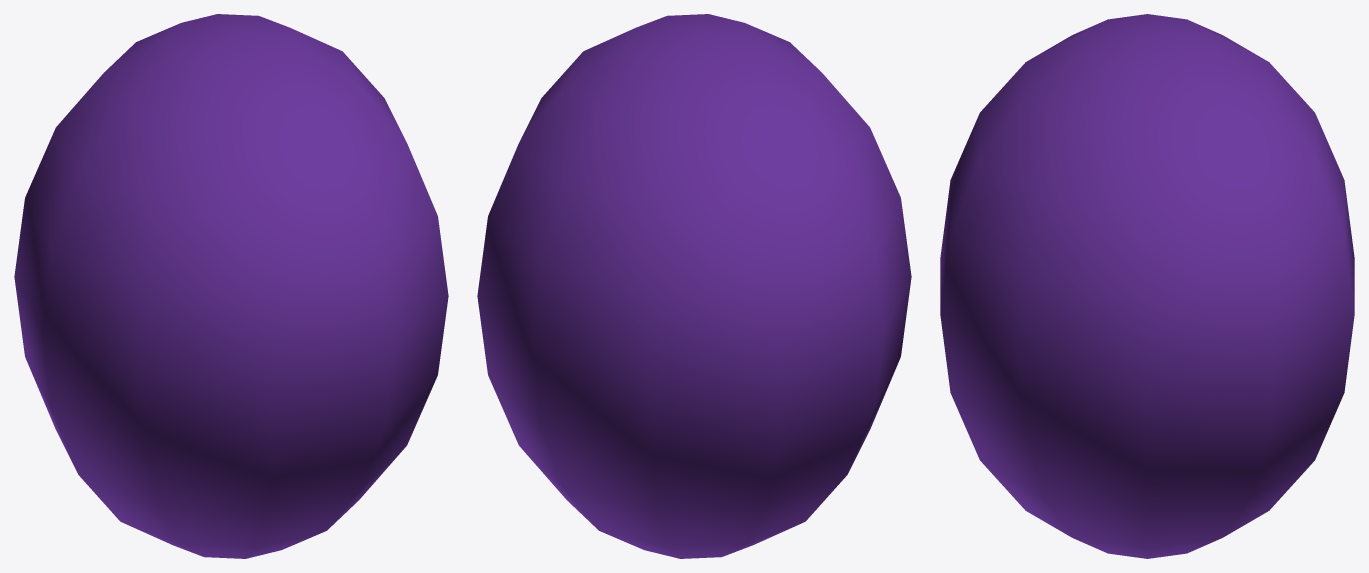
The model's file is arcankit_stage2.obj.
3 renders of one model, left to right at view 1: azimuth 30°, elevation 25°; view 2: azimuth 150°, elevation 25°; view 3: azimuth 270°, elevation 25°, orthographic.
Size of the model in its own units: 2 by 2.6 by 1.9.
